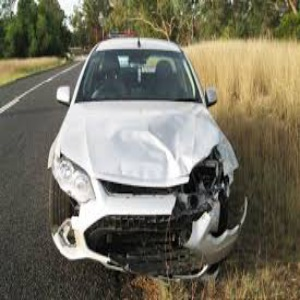bonnet: (109, 99, 214, 188)
bumper: (120, 195, 248, 275)
